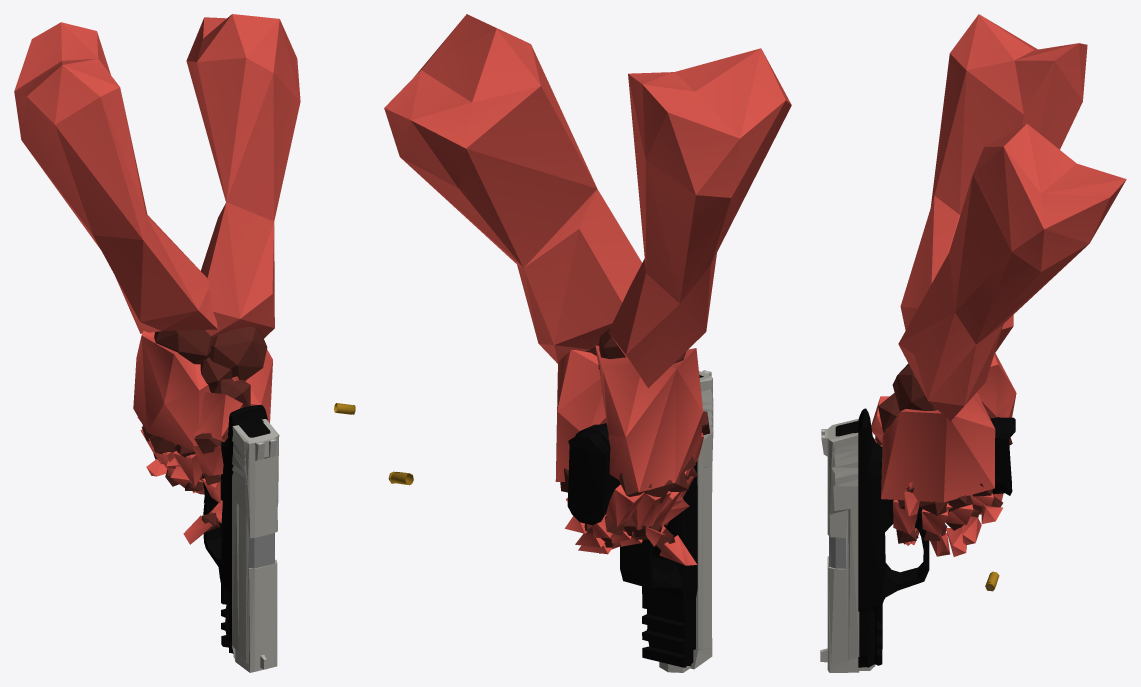
File: M&P9shoot3LowP_000209.obj
3 views of the same model, side by side, from view 1: azimuth 30°, elevation 25°; view 2: azimuth 150°, elevation 25°; view 3: azimuth 270°, elevation 25° (orthographic). The views are drawn at different scales.
Parts seen in each view (by area): view 1: Beta_Surface.001_Beta_Surface.002, slide_平面.002, Beta_Joints.001_Beta_Joints.002, triger_平面.001; view 2: Beta_Surface.001_Beta_Surface.002, triger_平面.001, slide_平面.002, Beta_Joints.001_Beta_Joints.002; view 3: Beta_Surface.001_Beta_Surface.002, triger_平面.001, slide_平面.002, Beta_Joints.001_Beta_Joints.002.
Part boxes in pixels (x1,y1,x2,y2): Beta_Surface.001_Beta_Surface.002: (14, 14, 300, 544); slide_平面.002: (232, 419, 279, 672); Beta_Joints.001_Beta_Joints.002: (136, 326, 267, 531); triger_平面.001: (202, 405, 274, 653); Beta_Surface.001_Beta_Surface.002: (384, 14, 791, 565); triger_平面.001: (567, 423, 697, 667); slide_平面.002: (659, 370, 713, 672); Beta_Joints.001_Beta_Joints.002: (560, 328, 709, 553); Beta_Surface.001_Beta_Surface.002: (871, 14, 1126, 556); triger_平面.001: (829, 408, 1015, 667); slide_平面.002: (820, 419, 875, 672); Beta_Joints.001_Beta_Joints.002: (875, 363, 1012, 544).
Bounding box in the file's own units: 46.99 × 80.1 × 37.71.
